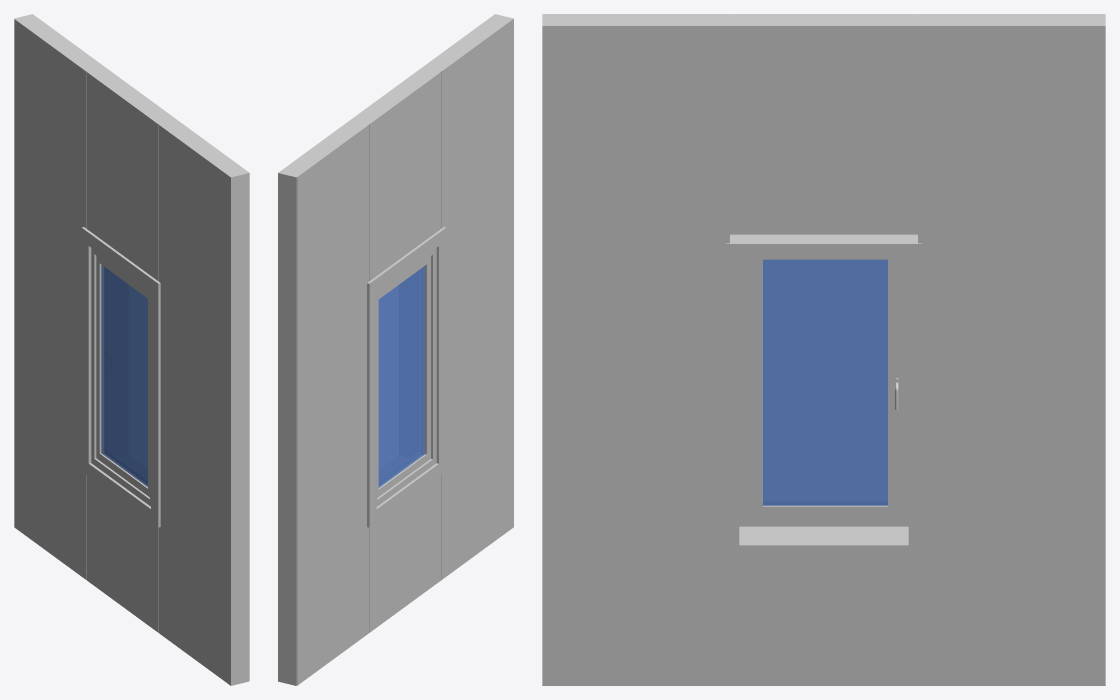
Rendered from window_1x1_8.fbx.
3 views of the same model, side by side, from view 1: azimuth 30°, elevation 25°; view 2: azimuth 150°, elevation 25°; view 3: azimuth 270°, elevation 25° (orthographic). The views are drawn at different scales.
Visible parts, largest first — view 1: Group4, Group1, Group3, Group9, Group6, Group7, Group2, Group8; view 2: Group1, Group4, Group3, Group9, Group6, Group7, Group2, Group8; view 3: Group1, Group4, Group3, Group8, Group7, Group6, Group2.
Boxes of the visible parts, x1,y1,x2,y2 form: Group4: (159,120,249,685); Group1: (14,14,104,579); Group3: (86,67,176,281); Group9: (81,227,160,527); Group6: (101,265,147,486); Group7: (104,267,147,484); Group2: (86,475,158,632); Group8: (101,265,147,486); Group1: (278,120,369,685); Group4: (423,14,513,579); Group3: (351,67,441,280); Group9: (367,227,446,527); Group6: (378,266,425,487); Group7: (379,269,421,485); Group2: (369,475,441,632); Group8: (379,266,424,487); Group1: (918,14,1105,685); Group4: (542,14,729,685); Group3: (730,14,917,234); Group8: (726,234,921,557); Group7: (763,259,887,505); Group6: (763,260,887,504); Group2: (730,557,917,685).
Bounding box in the file's own units: 330 × 3877 × 3000.
